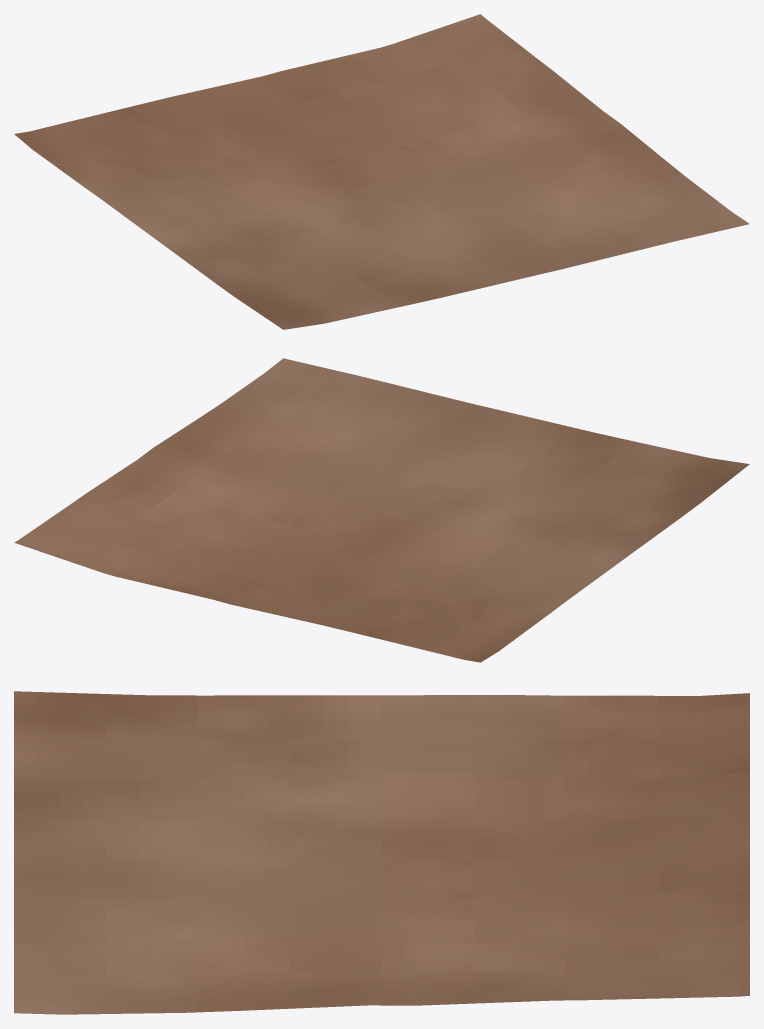
The picture shows the model from 3 angles, top to bottom: view 1: azimuth 30°, elevation 25°; view 2: azimuth 150°, elevation 25°; view 3: azimuth 270°, elevation 25°; orthographic projection. The views are drawn at different scales.
Bounding box in the file's own units: 16 × 0.5316 × 16.
1 material, 1 textured.
